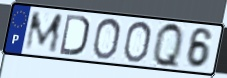6: (183, 27, 216, 70)
D: (58, 12, 91, 57)
M: (23, 11, 65, 55)
O: (91, 17, 123, 61), (122, 21, 154, 64)
Q: (152, 21, 185, 71)
